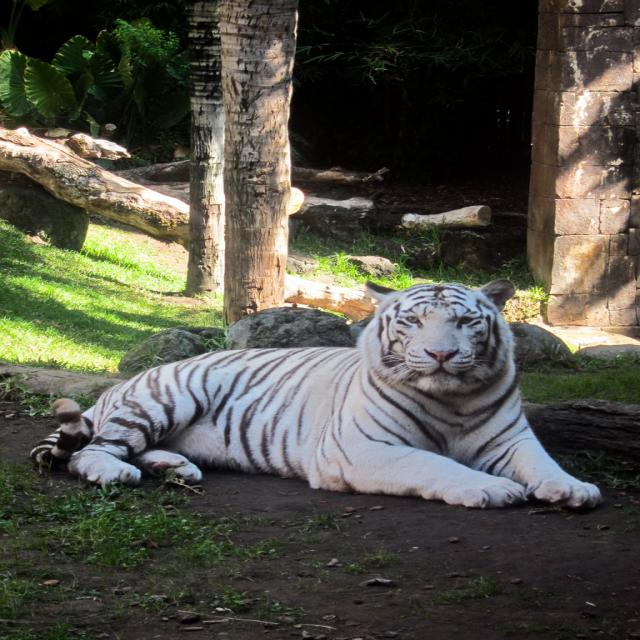Tiger: (29, 277, 604, 512)
